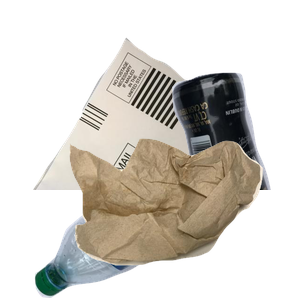glass: (106, 70, 300, 250)
paper: (31, 35, 271, 215)
plastic: (32, 154, 242, 300)
trash: (67, 136, 300, 300)
